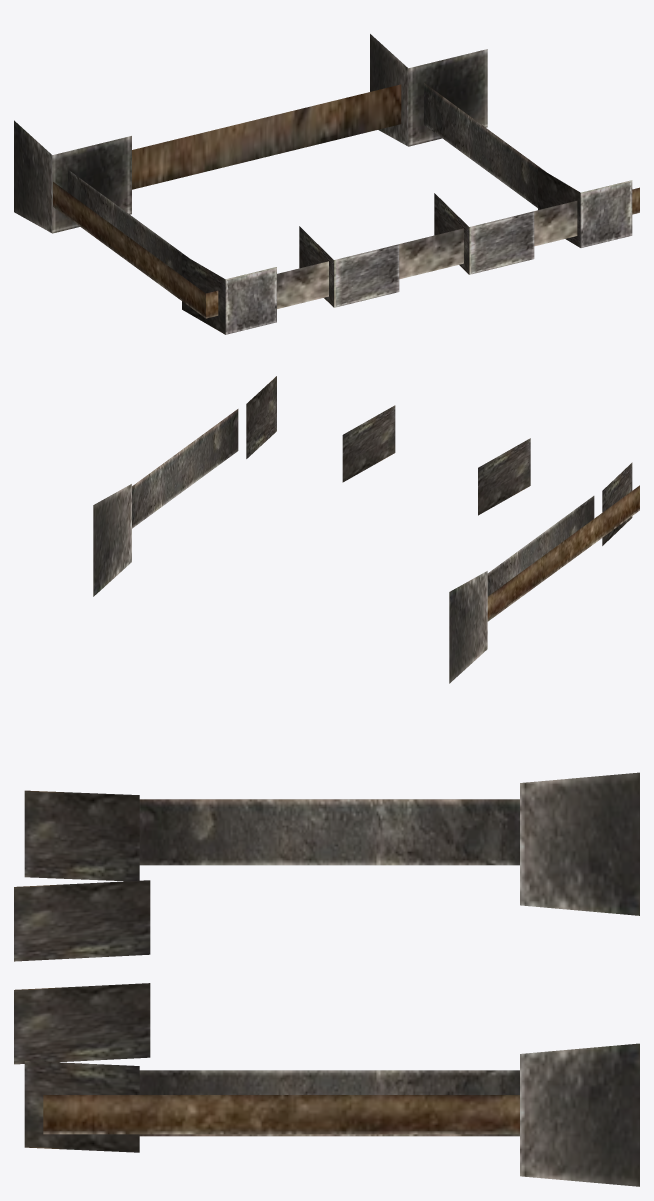
The picture shows the model from 3 angles, top to bottom: view 1: azimuth 30°, elevation 25°; view 2: azimuth 150°, elevation 25°; view 3: azimuth 270°, elevation 25°; orthographic projection. The views are drawn at different scales.
Visible parts, largest first — view 1: model_Object18; view 2: model_Object18; view 3: model_Object18.
Part boxes in pixels (x1,y1,x2,y2): model_Object18: (14,34,639,334); model_Object18: (93,376,639,683); model_Object18: (14,772,639,1186).
Size of the model in its own units: 2.96 by 0.597 by 2.36.
1 material, 1 textured.
